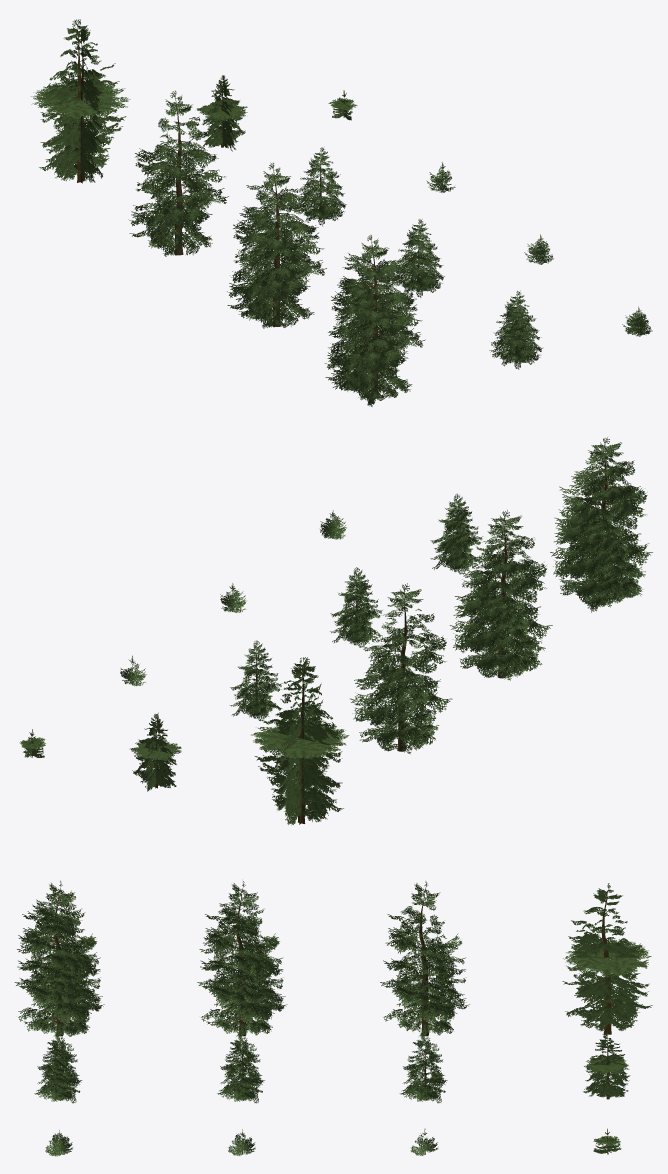
The picture shows the model from 3 angles, top to bottom: view 1: azimuth 30°, elevation 25°; view 2: azimuth 150°, elevation 25°; view 3: azimuth 270°, elevation 25°; orthographic projection. The views are drawn at different scales.
Parts seen in each view (by area): view 1: obj3, obj5, obj7, obj1, obj9, obj11, obj13, obj14; view 2: obj3, obj5, obj7, obj1, obj11, obj9, obj13, obj14; view 3: obj3, obj5, obj7, obj1, obj11, obj9, obj14, obj13, obj16, obj18, obj2.
Part boxes in pixels (box(x1,y1,x2,y2)): obj3: box(324, 235, 425, 406); obj5: box(227, 162, 326, 328); obj7: box(128, 90, 228, 256); obj1: box(31, 19, 130, 183); obj9: box(489, 290, 542, 369); obj11: box(394, 219, 444, 297); obj13: box(295, 147, 346, 226); obj14: box(197, 75, 247, 151); obj3: box(550, 437, 652, 612); obj5: box(449, 510, 552, 680); obj7: box(350, 583, 452, 754); obj1: box(251, 657, 349, 825); obj11: box(330, 567, 382, 647); obj9: box(430, 493, 483, 574); obj13: box(229, 640, 282, 721); obj14: box(129, 712, 181, 791); obj3: box(14, 880, 104, 1037); obj5: box(197, 881, 287, 1037); obj7: box(380, 881, 469, 1037); obj1: box(562, 883, 652, 1034); obj11: box(217, 1032, 264, 1103); obj9: box(34, 1032, 82, 1103); obj14: box(583, 1031, 630, 1099); obj13: box(399, 1032, 447, 1103); obj16: box(45, 1130, 72, 1156); obj18: box(228, 1129, 255, 1155); obj2: box(35, 888, 83, 1036).
Size of the model in its own units: 1876 by 933 by 3504.
Materials: 5 (5 with a texture image).
